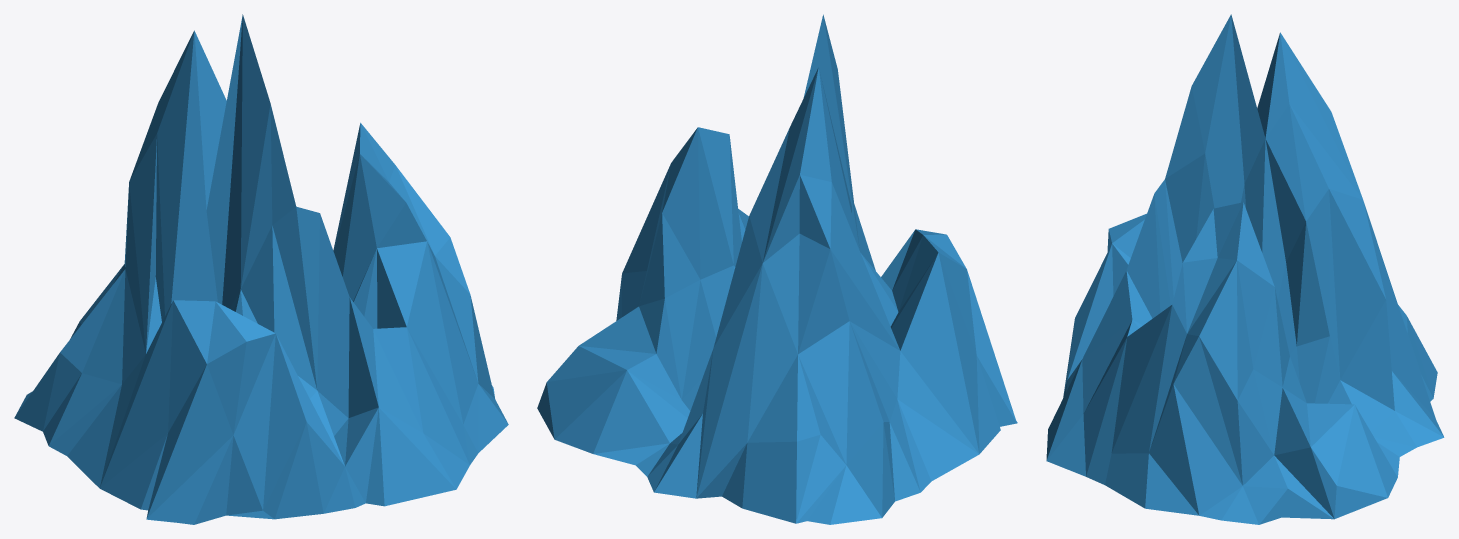
The model's file is SP_Mountain01.fbx.
3 views of the same model, side by side, from view 1: azimuth 30°, elevation 25°; view 2: azimuth 150°, elevation 25°; view 3: azimuth 270°, elevation 25° (orthographic). The views are drawn at different scales.
Parts seen in each view (by area): view 1: SP_Mountain01; view 2: SP_Mountain01; view 3: SP_Mountain01.
Part boxes in pixels (x1,y1,x2,y2): SP_Mountain01: (14,14,508,524); SP_Mountain01: (537,14,1017,524); SP_Mountain01: (1046,14,1444,524).
Size of the model in its own units: 518 by 520 by 474.
1 material, 1 textured.
